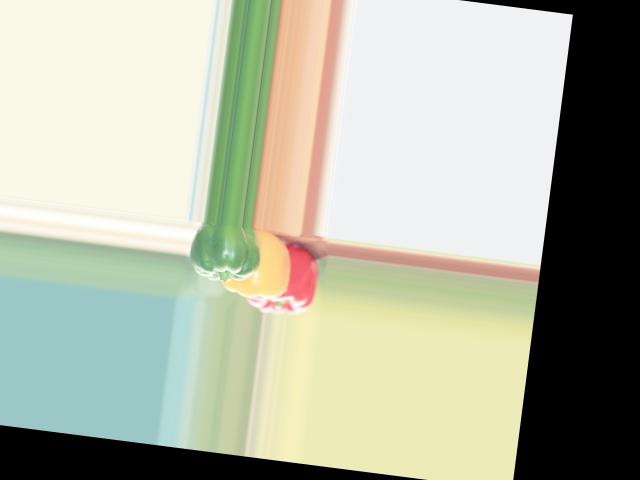bell_pepper: (245, 231, 321, 318)
